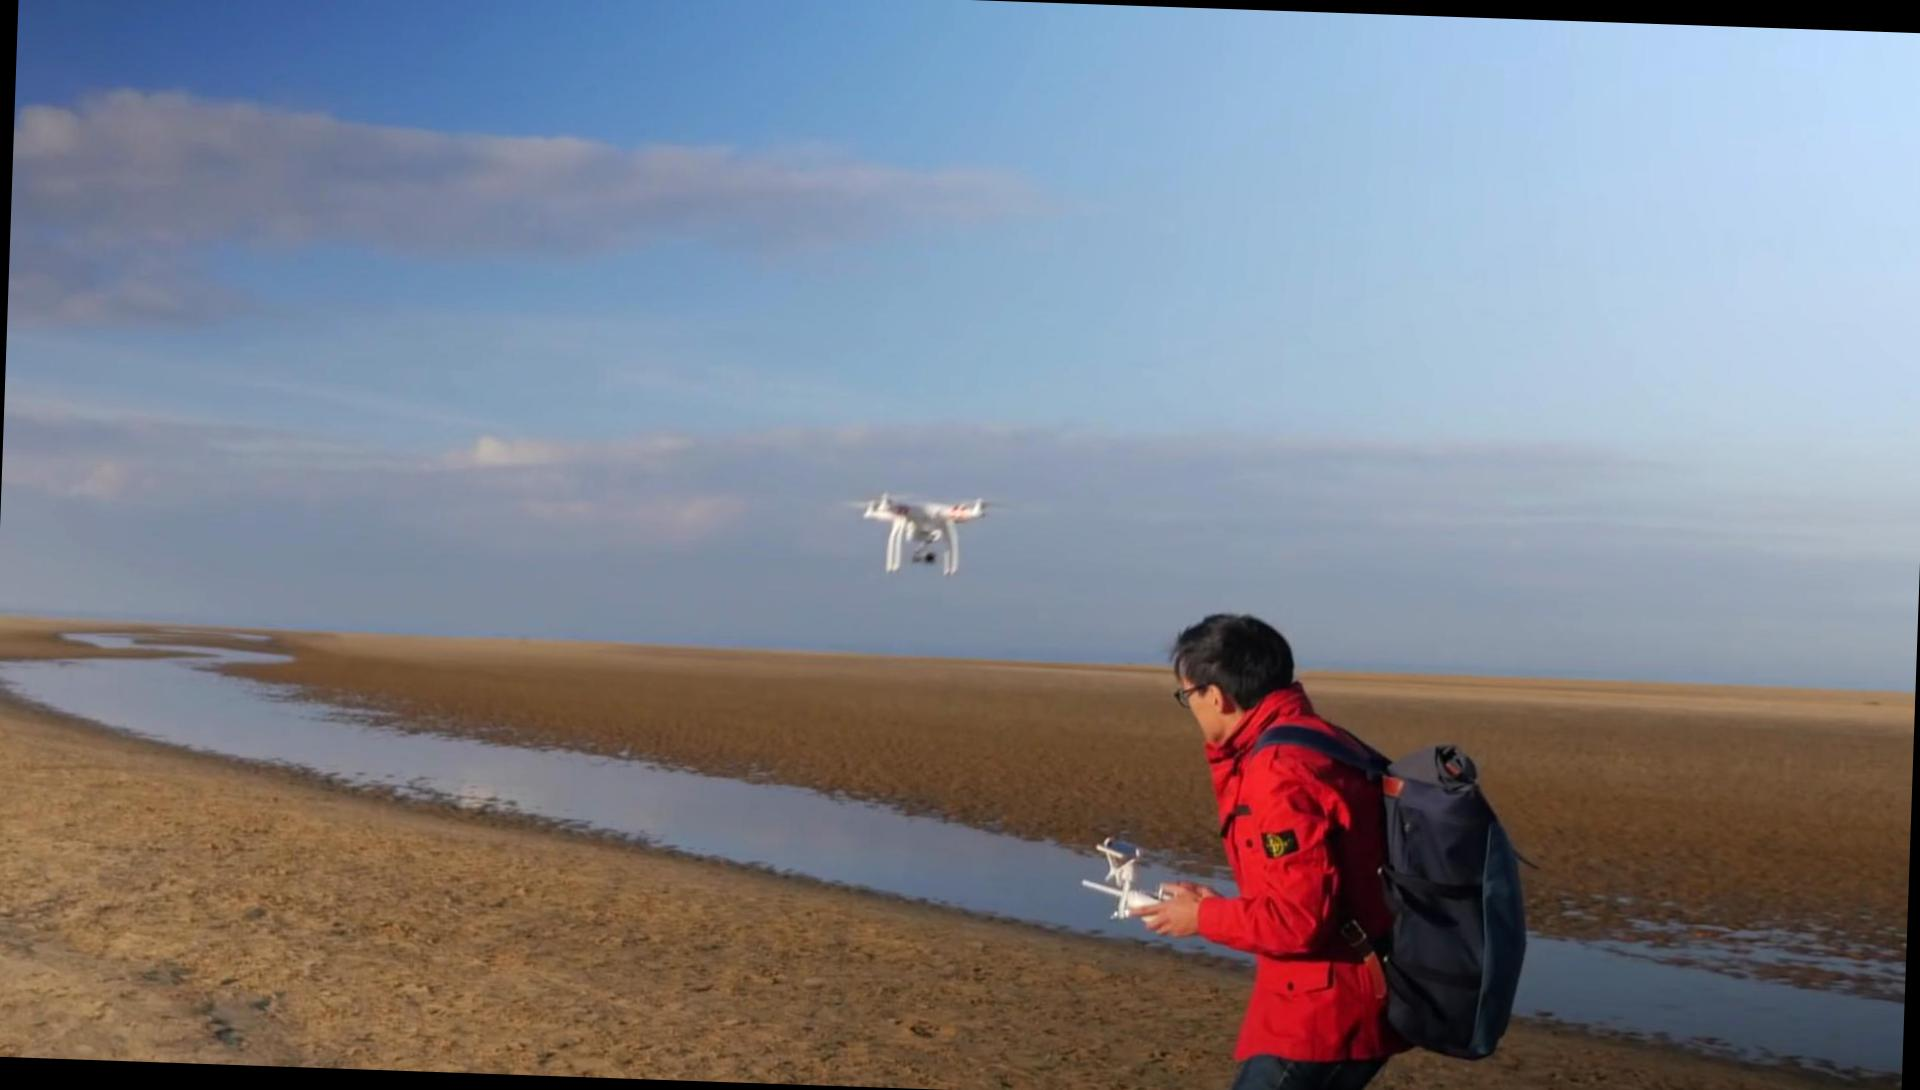drone: (858, 484, 997, 581)
